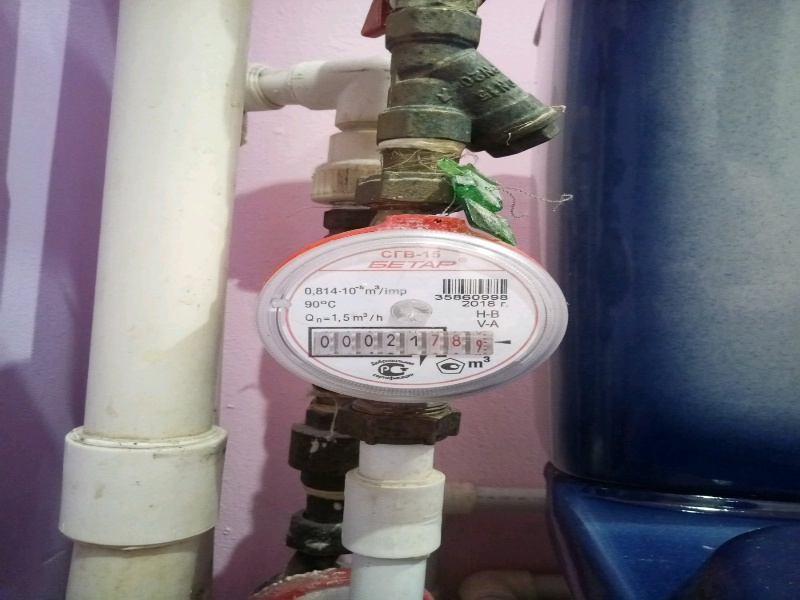meter: (316, 325, 488, 353)
